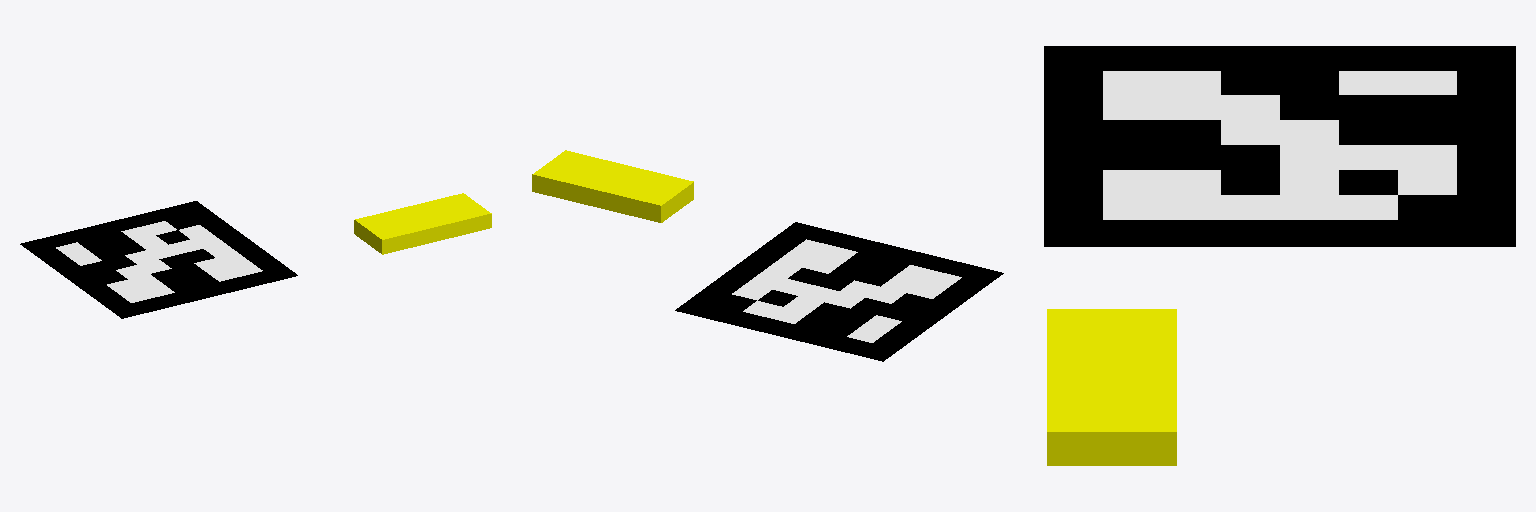
URDF robot description (morobot_model):
<?xml version="1.0" encoding="utf-8"?>
<!-- This URDF was automatically created by SolidWorks to URDF Exporter! Originally created by [author] ([email redacted]) 
     Commit Version: 1.6.0-4-g7f85cfe  Build Version: 1.6.7995.38578
     For more information, please see http://wiki.ros.org/sw_urdf_exporter -->
<robot name="morobot_model">

  <link name="aruco_black">
    <inertial>
      <origin xyz="0.00095515 0.00084441 0.0005" rpy="0 0 0" />
      <mass value="0.026875" />
      <inertia ixx="0.00010781" ixy="1.2556E-06" ixz="1.8431E-24" iyy="0.00010282" iyz="2.4944E-23" izz="0.00021063" />
    </inertial>
    <visual>
      <origin xyz="0 0 0" rpy="0 0 0" />
      <geometry>
        <mesh filename="package://tdf_gazebo/meshes/aruco_black.STL" />
      </geometry>
      <material name="">
        <color rgba="0 0 0 1" />
      </material>
    </visual>
    <collision>
      <origin xyz="0 0 0" rpy="0 0 0" />
      <geometry>
        <mesh filename="package://tdf_gazebo/meshes/aruco_black.STL" />
      </geometry>
    </collision>
  </link>
  <link
    name="aruco_white">
    <inertial>
      <origin xyz="0.0089286 -0.0053571 0.0005" rpy="0 0 0" />
      <mass value="0.013125" />
      <inertia ixx="2.0329E-05" ixy="-5.8594E-06" ixz="1.2925E-23" iyy="2.256E-05" iyz="1.6305E-23" izz="4.2887E-05" />
    </inertial>
    <visual>
      <origin xyz="0 0 0" rpy="0 0 0" />
      <geometry>
        <mesh filename="package://tdf_gazebo/meshes/aruco_white.STL" />
      </geometry>
      <material name="">
        <color rgba="1 1 1 1" />
      </material>
    </visual>
    <collision>
      <origin xyz="0 0 0" rpy="0 0 0" />
      <geometry>
        <mesh filename="package://tdf_gazebo/meshes/aruco_white.STL" />
      </geometry>
    </collision>
  </link>
  <joint name="black_to_white" type="fixed">
    <origin xyz="0 0 0" rpy="0 0 0" />
    <parent link="aruco_black" />
    <child link="aruco_white" />
    <axis xyz="-1 0 0" />
  </joint>

  <joint name="aruco_morobot_tf" type="fixed">
    <origin xyz="0.2 -0.1 0.0" rpy="0 0 0" />
    <parent link="aruco_white" />
    <child link="morobot_base_link" />
  </joint>

  <link name="morobot_base_link">
    <inertial>
      <origin xyz="0.078595 0.039803 -0.0080825" rpy="0 0 0" />
      <mass value="0.48436" />
      <inertia ixx="0.00037526" ixy="2.6112E-05" ixz="0.00028409" iyy="0.0020811" iyz="-4.8223E-06" izz="0.0022208" />
    </inertial>
    <visual>
      <origin xyz="0.062 0.0275 0.008" rpy="0 0 0" />
      <geometry>
        <box size=".124 .055 .016" />
      </geometry>
      <material name="">
        <color rgba="1 1 0 1" />
      </material>
    </visual>
    <collision>
      <origin xyz="0.062 0.0275 0.008" rpy="0 0 0" />
      <geometry>
        <box size=".124 .055 .016" />
      </geometry>
    </collision>
  </link>

  <link name="morobot_gripping_point" />

  <joint name="object_gripping_tf" type="fixed">
    <origin xyz="0.09616 0.0275 0.016" rpy="0 3.141592 -1.5708" /> 
    <parent link="morobot_base_link" />
    <child link="morobot_gripping_point" />
  </joint>
  
  <gazebo>
    <static>true</static>
  </gazebo>

  <gazebo reference="aruco_black">
    <material>Gazebo/Black</material>
  </gazebo>

  <gazebo reference="aruco_white">
    <material>Gazebo/White</material>
  </gazebo>

  <gazebo reference="morobot_base_link">
    <material>Gazebo/Yellow</material>
  </gazebo>

</robot>

--- What the picture shows (computed from the rendered views, not written in the file) ---
3 views of the same robot in one strip: view 1: azimuth 30°, elevation 25°; view 2: azimuth 150°, elevation 25°; view 3: azimuth 270°, elevation 25° (orthographic).
Model morobot_model with 4 links and 3 joints (3 fixed), rooted at aruco_black, posed every joint at zero.
Links seen in each view (by area): view 1: aruco_black, aruco_white, morobot_base_link; view 2: aruco_black, aruco_white, morobot_base_link; view 3: aruco_black, aruco_white, morobot_base_link.
Link boxes in pixels (bbox=[...]): aruco_black: bbox=[20, 201, 297, 318]; aruco_white: bbox=[56, 221, 262, 302]; morobot_base_link: bbox=[354, 193, 491, 254]; aruco_black: bbox=[675, 222, 1003, 361]; aruco_white: bbox=[732, 239, 961, 342]; morobot_base_link: bbox=[532, 150, 693, 222]; aruco_black: bbox=[1044, 46, 1515, 246]; aruco_white: bbox=[1103, 71, 1456, 219]; morobot_base_link: bbox=[1047, 309, 1176, 465].
Size in the robot's own frame: 0.4204 by 0.2 by 0.016 metres.
2 mesh visuals loaded from 2 distinct referenced files (2 binary STL).